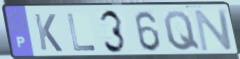3: (97, 9, 128, 55)
6: (134, 9, 163, 54)
K: (32, 12, 65, 54)
L: (65, 13, 98, 53)
N: (193, 8, 235, 53)
Q: (162, 10, 202, 53)
